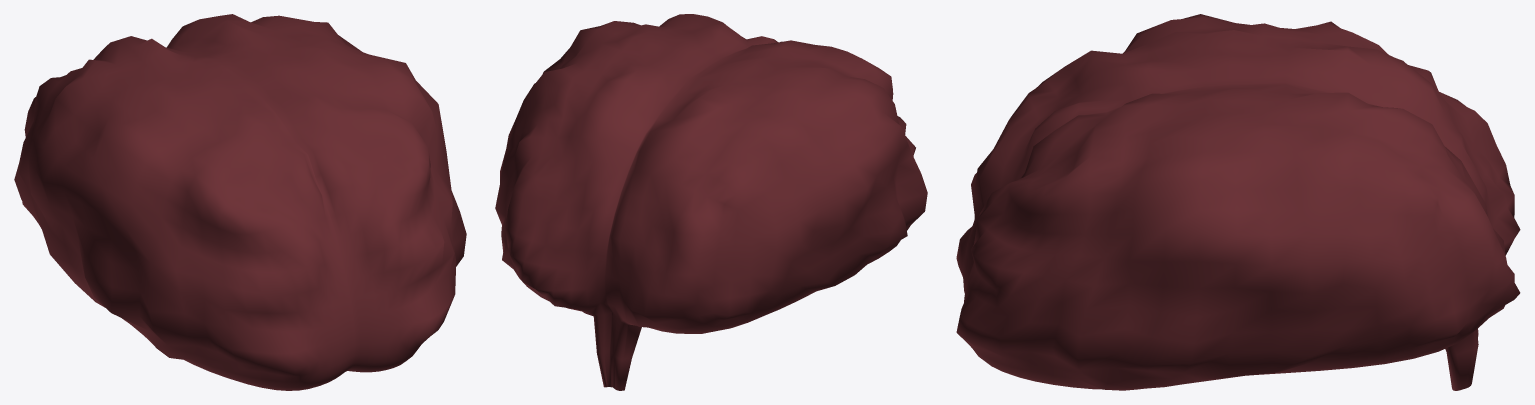
Rendered from brain.fbx.
3 views of the same model, side by side, from view 1: azimuth 30°, elevation 25°; view 2: azimuth 150°, elevation 25°; view 3: azimuth 270°, elevation 25° (orthographic). The views are drawn at different scales.
Visible parts, largest first — view 1: brain; view 2: brain; view 3: brain.
Part boxes in pixels (x1=…): brain: x1=14, y1=14, x2=466, y2=390; brain: x1=495, y1=14, x2=927, y2=390; brain: x1=956, y1=14, x2=1520, y2=390.
Size of the model in its own units: 0.6873 by 0.8206 by 0.5075.
